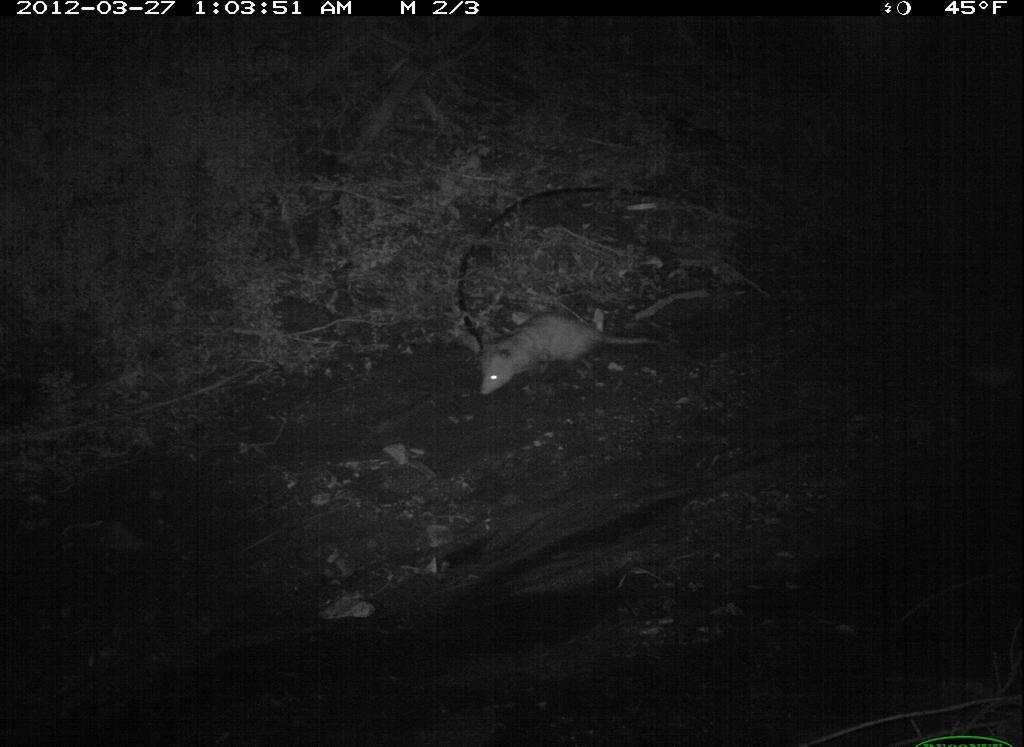opossum: (470, 290, 664, 404)
